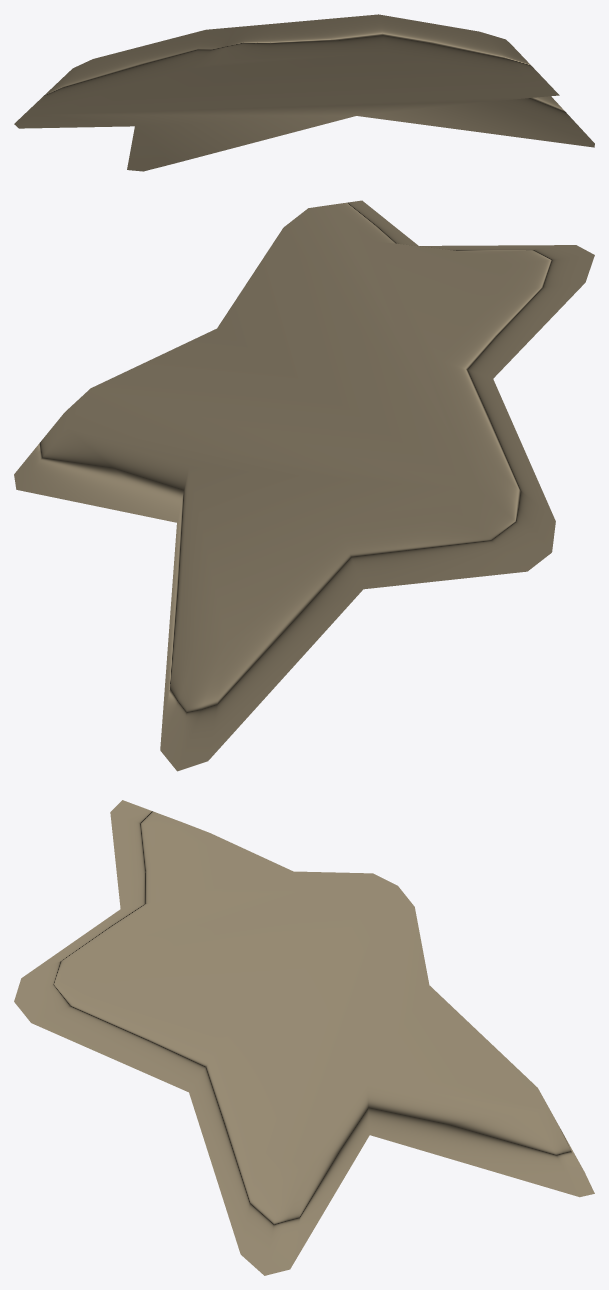
Rendered from star.fbx.
3 views of the same model, one above another, from view 1: azimuth 30°, elevation 25°; view 2: azimuth 150°, elevation 25°; view 3: azimuth 270°, elevation 25° (orthographic). The views are drawn at different scales.
Visible parts, largest first — view 1: pCube1; view 2: pCube1; view 3: pCube1.
Part boxes in pixels (x1,y1,x2,y2): pCube1: (14,14,594,171); pCube1: (14,200,594,771); pCube1: (14,800,594,1275).
Size of the model in its own units: 2.92 by 1.66 by 2.67.
